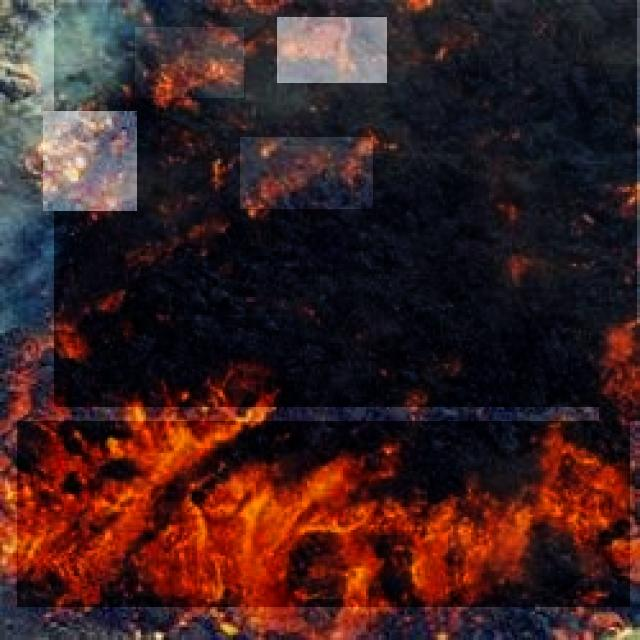Fire: (17, 421, 630, 607), (240, 137, 373, 209), (44, 111, 138, 212), (135, 27, 244, 98), (277, 17, 387, 83), (599, 323, 640, 421)
Smoke: (54, 0, 637, 407)
